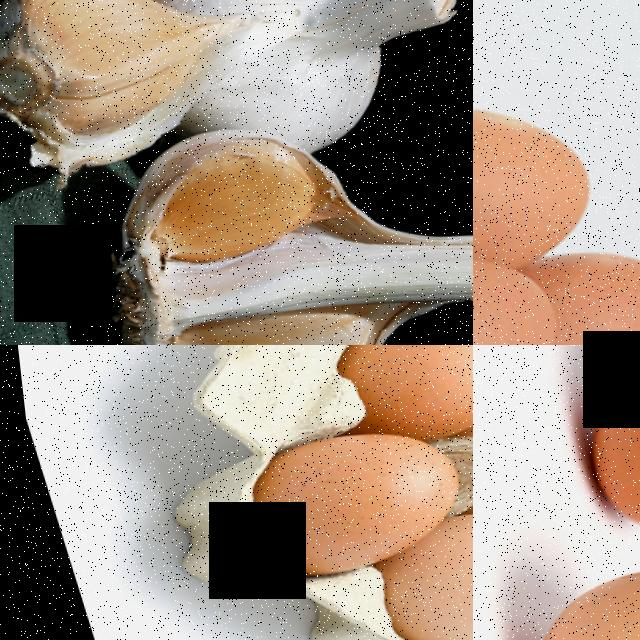egg_: (230, 413, 468, 593), (473, 56, 599, 304), (546, 345, 640, 565), (482, 513, 640, 640), (355, 508, 473, 640), (326, 345, 473, 449), (473, 226, 588, 345)
garlic: (151, 0, 440, 154), (99, 128, 344, 288), (0, 0, 215, 167), (128, 281, 408, 345)
